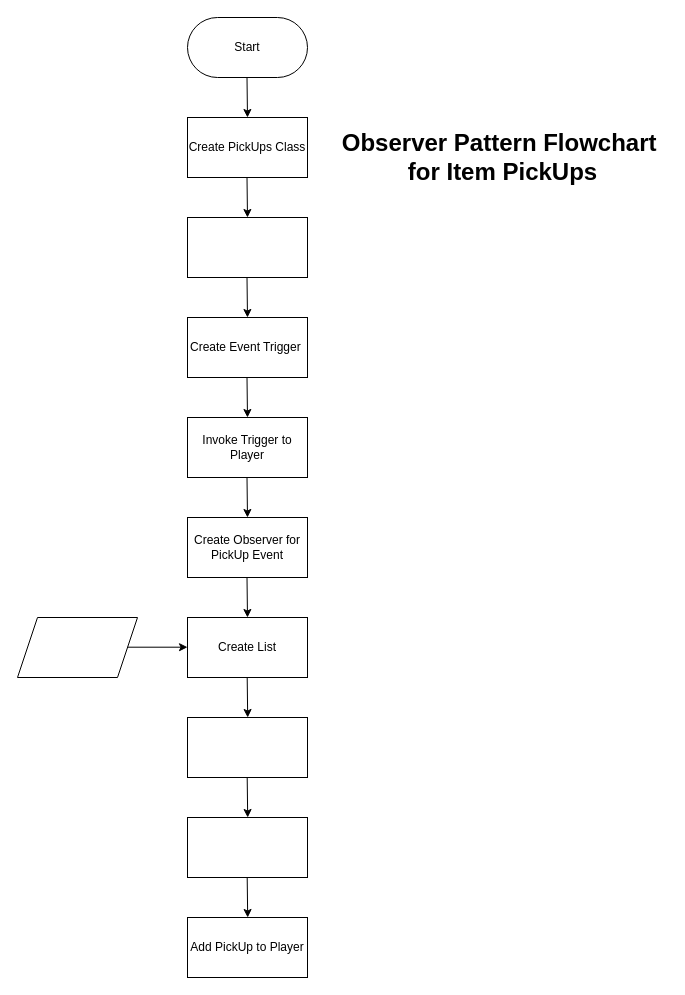
This 685x995 diagram has some shape labels left out. The shapes that lost their labels are listed below. From the top down, each one's centre as x and y in pixels, then its label:
At point 247,247: "Create Event for PickUp".
At point 77,647: "Assign PickUps".
At point 247,747: "Foreach Item in List Assign Variable".
At point 247,847: "Call Action from PickUp".
